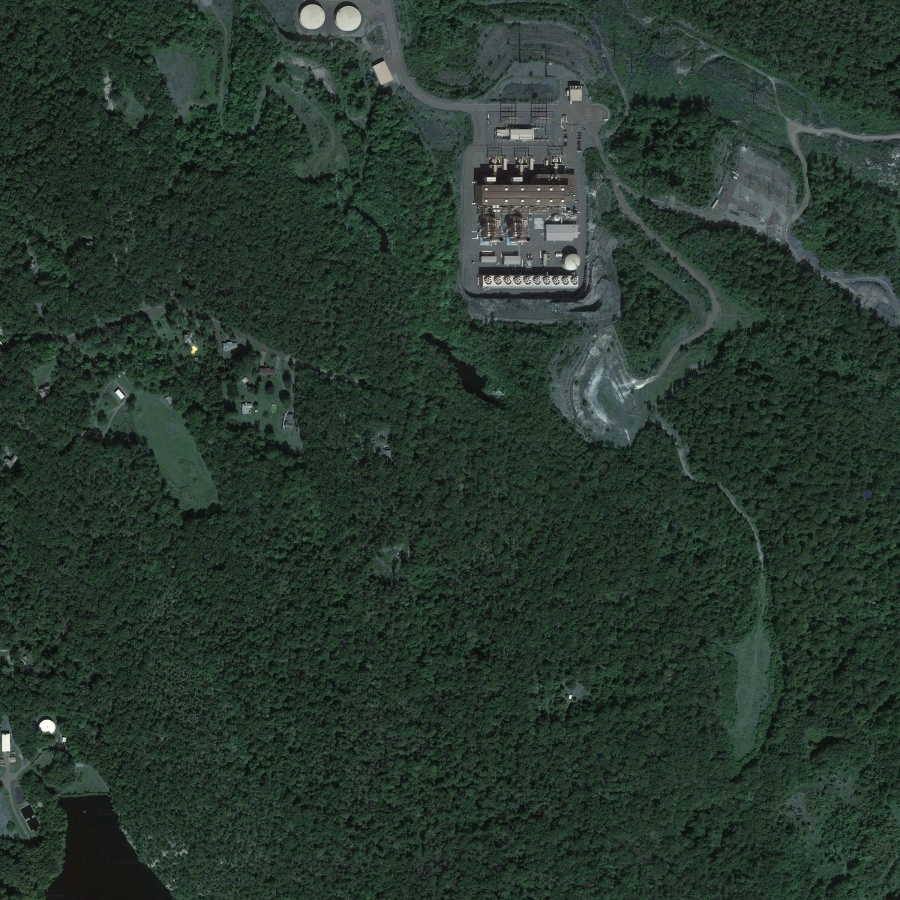PowerPlant: (465, 65, 611, 305)
